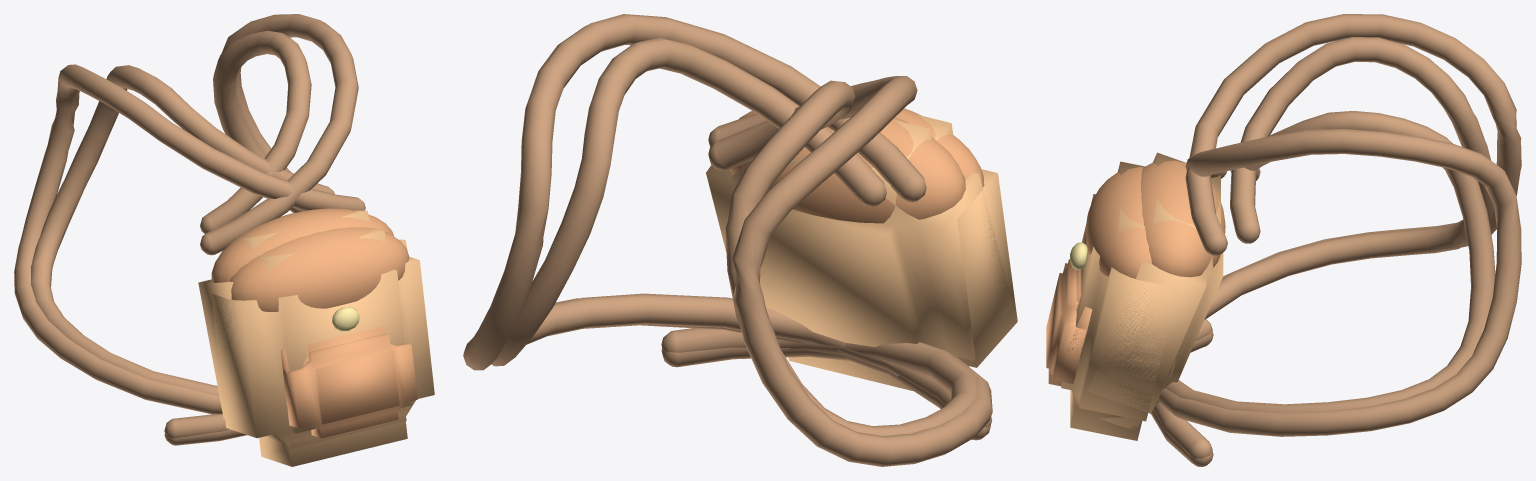
File: little_backpack.glb
3 renders of one model, left to right at view 1: azimuth 30°, elevation 25°; view 2: azimuth 150°, elevation 25°; view 3: azimuth 270°, elevation 25°, orthographic. The views are drawn at different scales.
Visible parts, largest first — view 1: BodyBoy, BodyGirl; view 2: BodyGirl, BodyBoy; view 3: BodyBoy, BodyGirl.
Boxes of the visible parts, x1,y1,x2,y2 form: BodyBoy: (14,14,434,466); BodyGirl: (31,30,407,448); BodyGirl: (491,37,1012,435); BodyBoy: (463,14,1017,466); BodyBoy: (1046,14,1521,466); BodyGirl: (1064,37,1495,458).
Bounding box in the file's own units: 0.4143 × 0.3532 × 0.4507.
